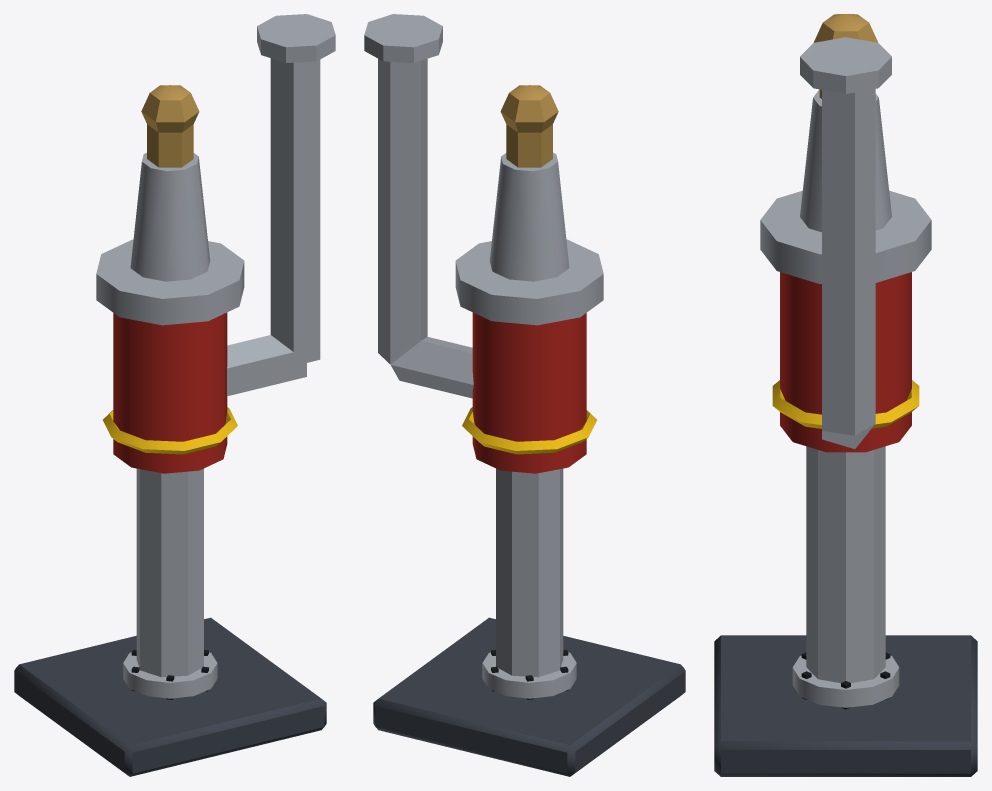
Rendered from valve_pressure_relief_valve.glb.
3 renders of one model, left to right at view 1: azimuth 30°, elevation 25°; view 2: azimuth 150°, elevation 25°; view 3: azimuth 270°, elevation 25°, orthographic. The views are drawn at different scales.
Parts seen in each view (by area): view 1: valve_pressure_relief_valve; view 2: valve_pressure_relief_valve; view 3: valve_pressure_relief_valve.
Boxes of the visible parts, x1,y1,x2,y2 form: valve_pressure_relief_valve: (14,14,335,776); valve_pressure_relief_valve: (364,14,685,776); valve_pressure_relief_valve: (714,14,977,776).
Bounding box in the file's own units: 0.52 × 1.24 × 0.4.
